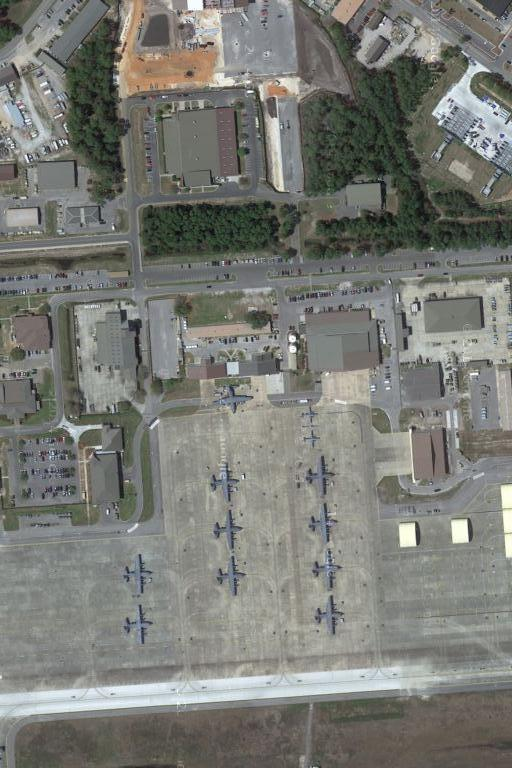C-130: (213, 555, 251, 601), (302, 453, 339, 500), (122, 549, 156, 600), (209, 383, 256, 417), (209, 461, 243, 506), (212, 508, 244, 555), (124, 604, 157, 649), (312, 546, 343, 593), (306, 504, 341, 545), (313, 596, 347, 637)
